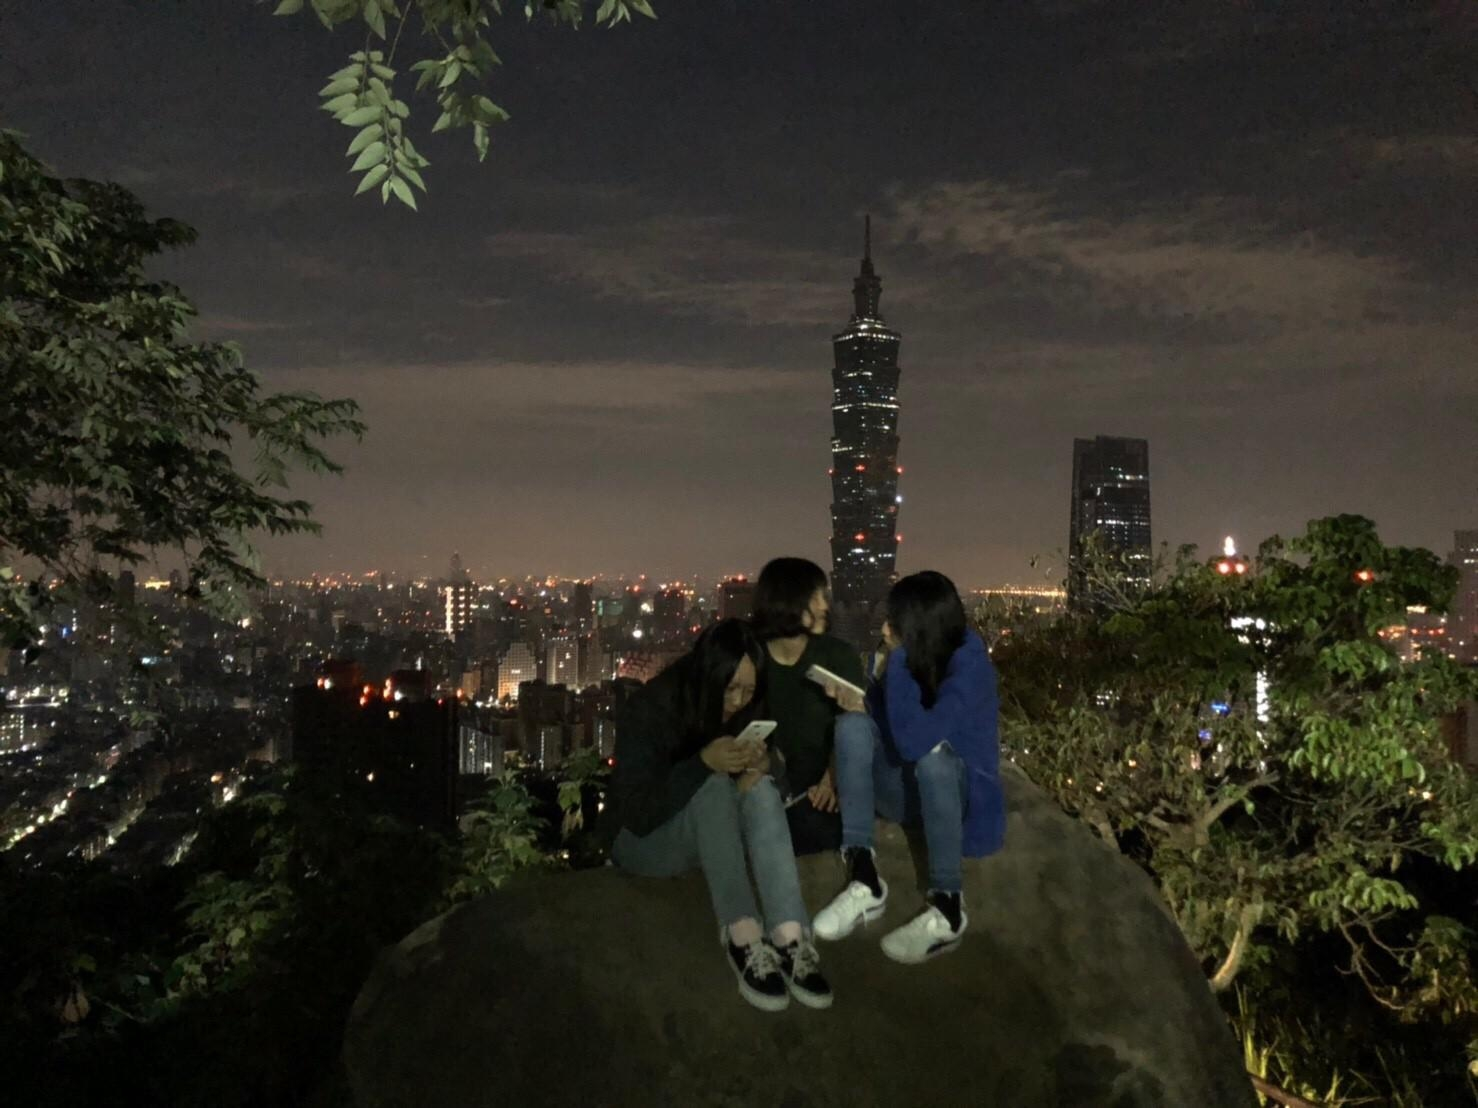people: (656, 638, 827, 1000), (850, 569, 977, 938), (727, 557, 846, 832)
